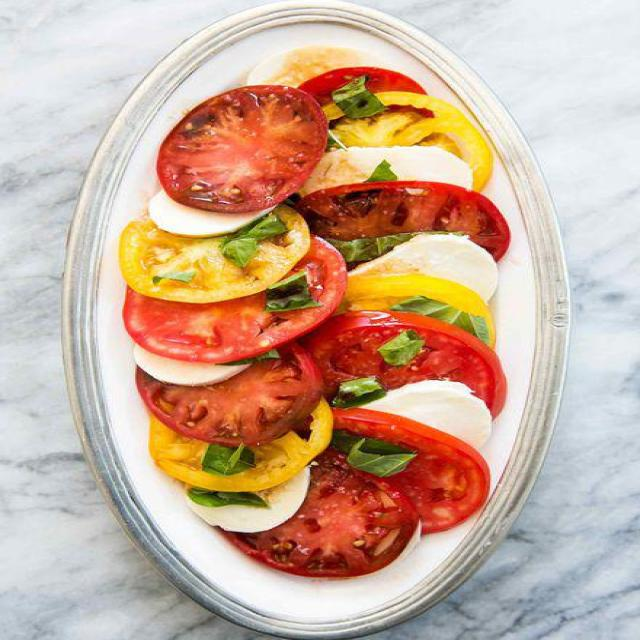Tomato: (159, 81, 326, 213), (308, 182, 499, 256)
